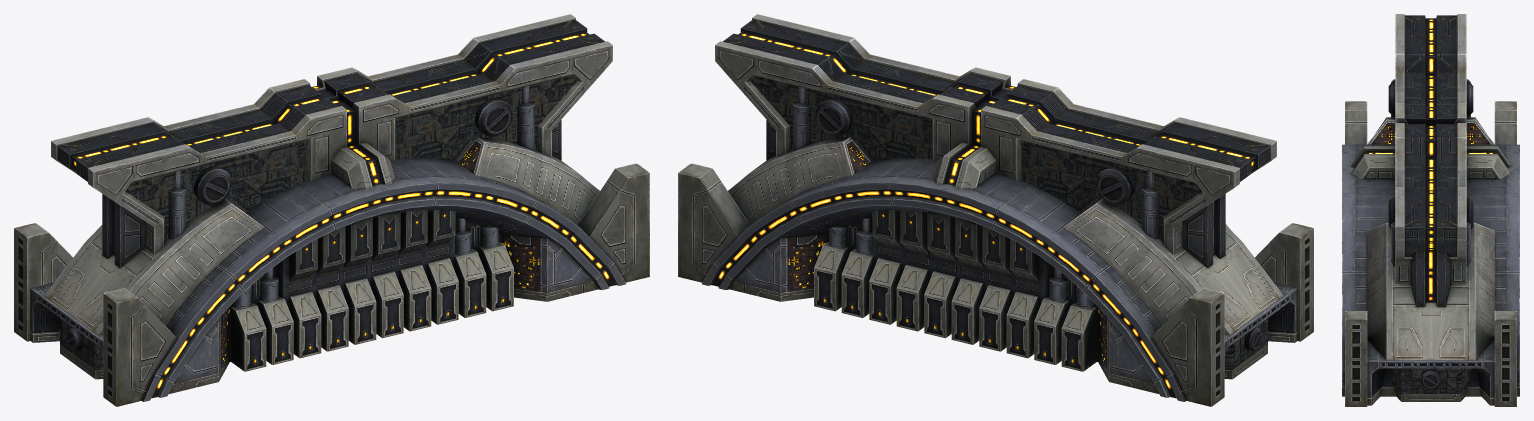
Rendered from bel_arch_rakata_generator01.glb.
The picture shows the model from 3 angles, left to right: view 1: azimuth 30°, elevation 25°; view 2: azimuth 150°, elevation 25°; view 3: azimuth 270°, elevation 25°; orthographic projection. The views are drawn at different scales.
Parts seen in each view (by area): view 1: bel_arch_rakata_generator01; view 2: bel_arch_rakata_generator01; view 3: bel_arch_rakata_generator01.
Part boxes in pixels (left/top/right/bottom): bel_arch_rakata_generator01: left=14, top=14, right=649, bottom=406; bel_arch_rakata_generator01: left=678, top=14, right=1313, bottom=406; bel_arch_rakata_generator01: left=1342, top=14, right=1519, bottom=406.
Size of the model in its own units: 1.57 by 0.595 by 0.54.
2 materials, 2 textured.
